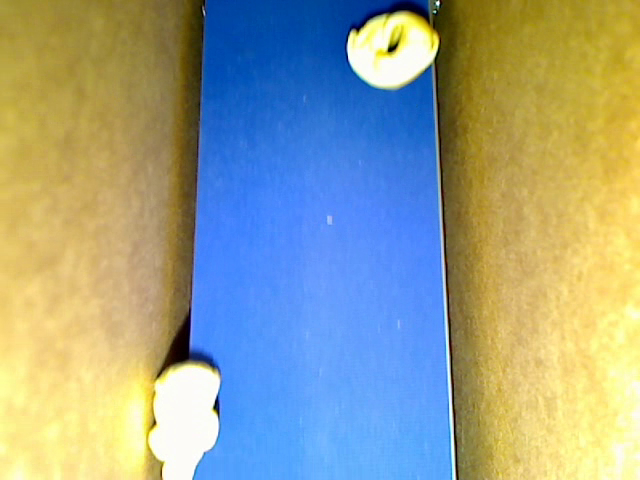tortellini: (345, 12, 439, 92)
